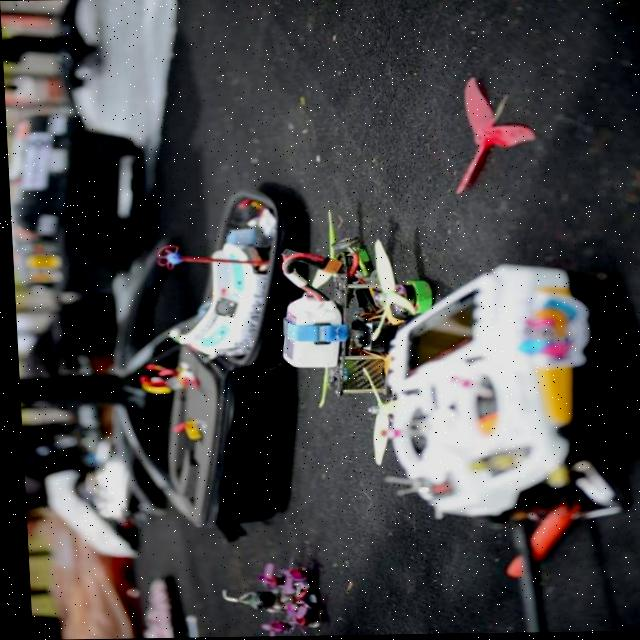drone: (280, 186, 450, 449)
